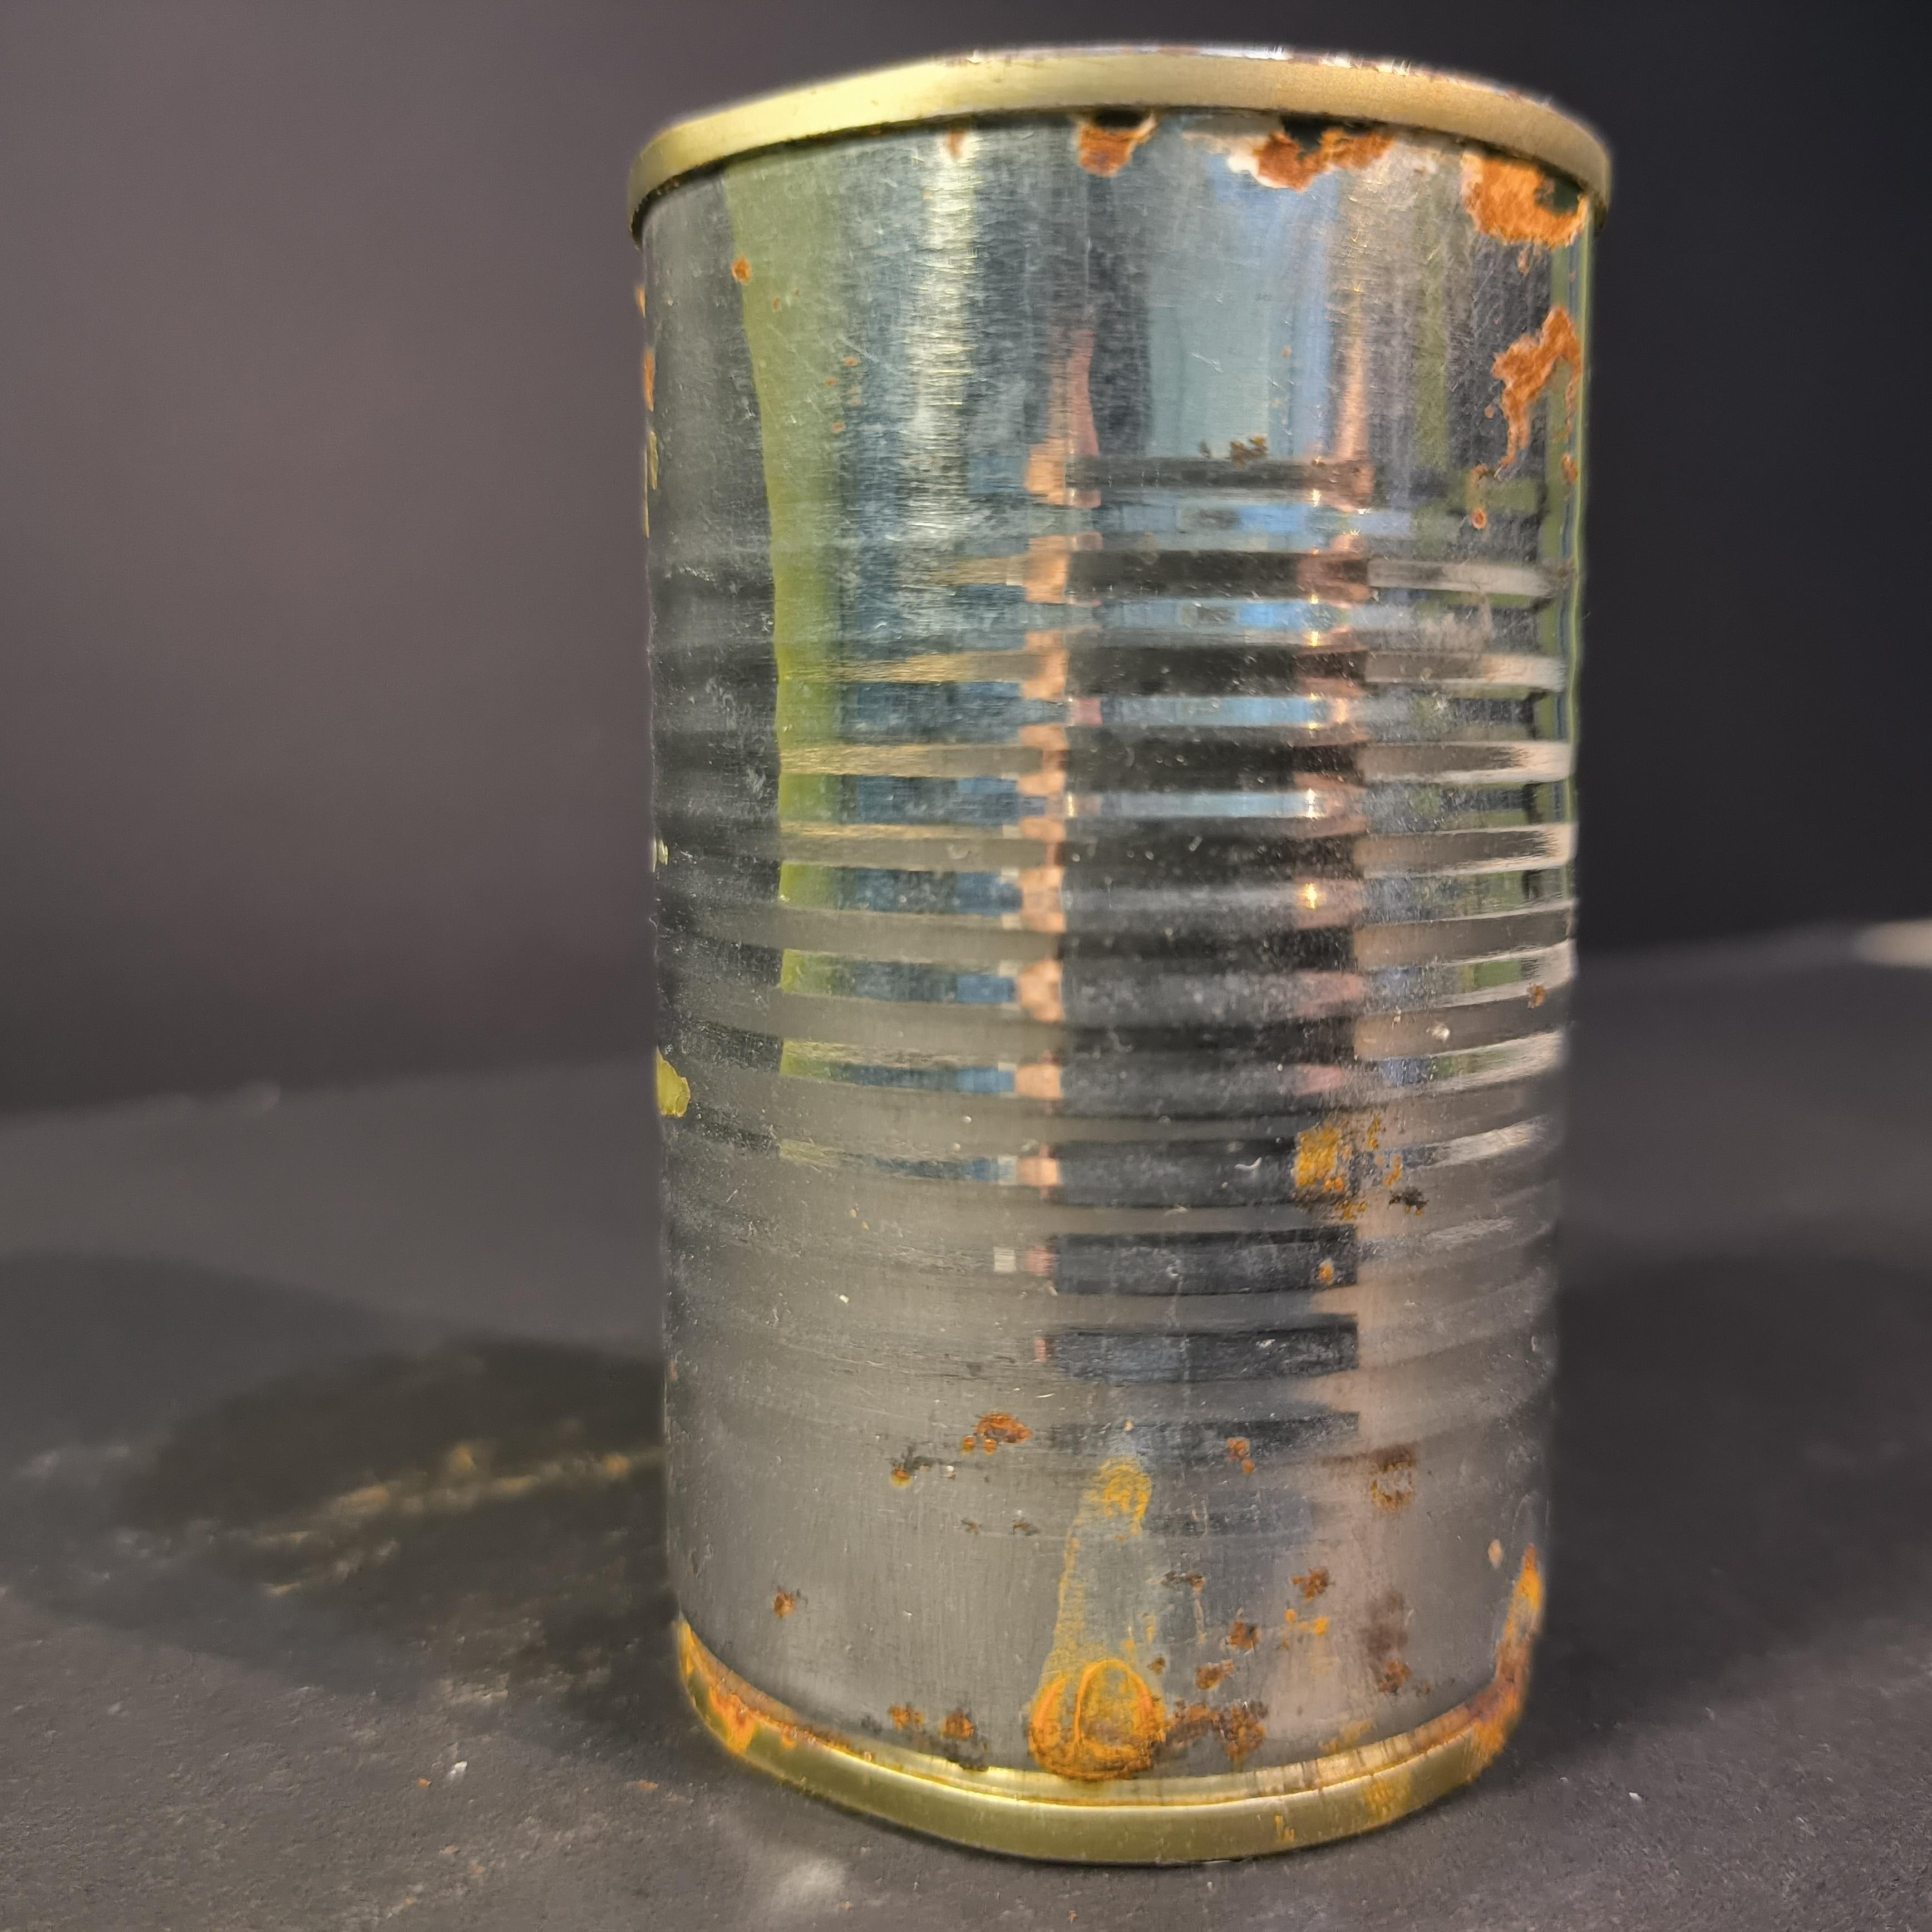Rusted: (617, 19, 1647, 1890)
